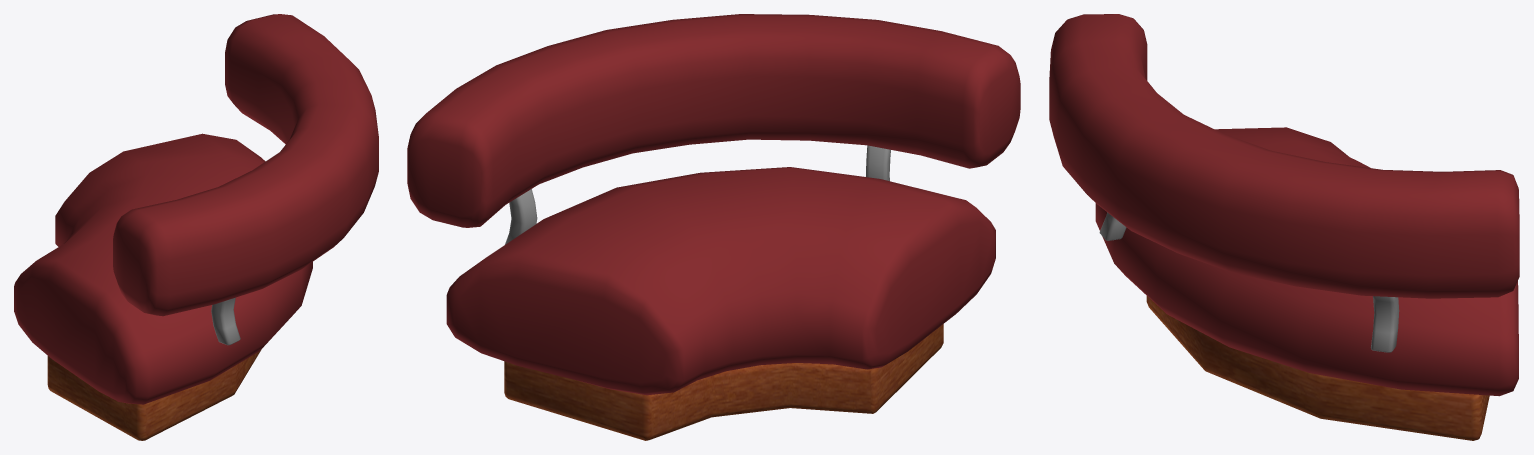
File: Sofa_Corner_In.glb
The picture shows the model from 3 angles, left to right: view 1: azimuth 30°, elevation 25°; view 2: azimuth 150°, elevation 25°; view 3: azimuth 270°, elevation 25°; orthographic projection. The views are drawn at different scales.
Visible parts, largest first — view 1: Cube.022; view 2: Cube.022; view 3: Cube.022.
Boxes of the visible parts, x1=… form: Cube.022: x1=14, y1=14, x2=378, y2=440; Cube.022: x1=407, y1=14, x2=1020, y2=440; Cube.022: x1=1049, y1=14, x2=1519, y2=440.
Bounding box in the file's own units: 1.66 × 1.12 × 1.68.
1 material, 1 textured.
